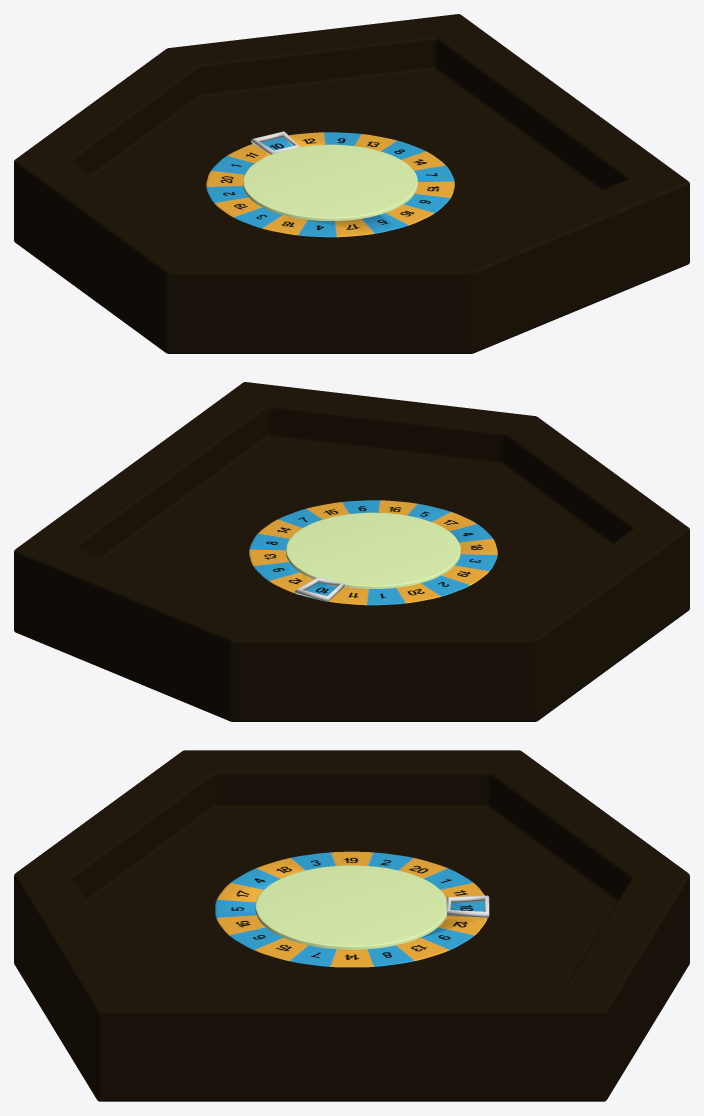
File: Table2.fbx
3 views of the same model, one above another, from view 1: azimuth 30°, elevation 25°; view 2: azimuth 150°, elevation 25°; view 3: azimuth 270°, elevation 25° (orthographic). The views are drawn at different scales.
Visible parts, largest first — view 1: Table, DiscardPlace, Roullete; view 2: Table, DiscardPlace, Roullete, Torus; view 3: Table, DiscardPlace, Roullete, Torus.
Boxes of the visible parts, x1=… form: Table: x1=14, y1=14, x2=689, y2=353; DiscardPlace: x1=243, y1=144, x2=417, y2=221; Roullete: x1=206, y1=132, x2=454, y2=237; Table: x1=14, y1=382, x2=689, y2=721; DiscardPlace: x1=286, y1=512, x2=460, y2=588; Roullete: x1=249, y1=500, x2=497, y2=605; Torus: x1=295, y1=577, x2=344, y2=601; Table: x1=14, y1=750, x2=689, y2=1101; DiscardPlace: x1=255, y1=865, x2=446, y2=949; Roullete: x1=215, y1=851, x2=487, y2=967; Torus: x1=446, y1=895, x2=489, y2=917.
Size of the model in its own units: 183 by 29.97 by 200.
